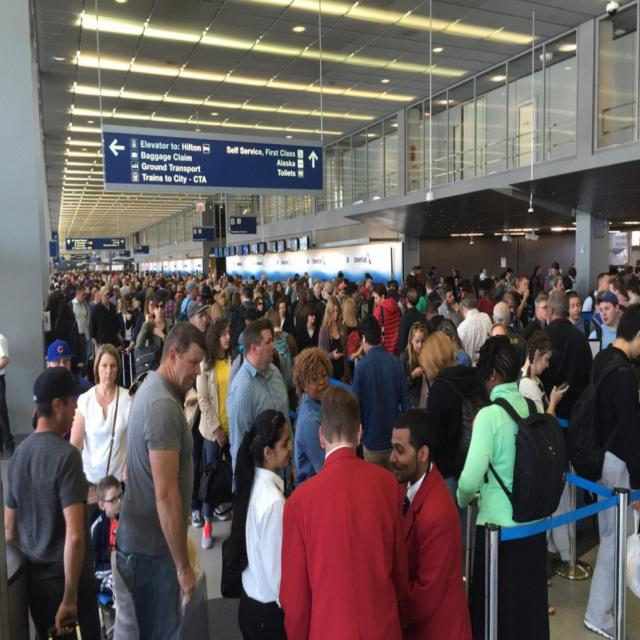body: (276, 379, 416, 639), (112, 318, 211, 639), (454, 331, 550, 640), (562, 300, 640, 640), (1, 363, 92, 639), (388, 406, 474, 639), (68, 341, 133, 640), (417, 329, 481, 579), (228, 408, 294, 639), (226, 316, 294, 501), (195, 317, 241, 551), (184, 299, 230, 528), (352, 311, 412, 475), (540, 289, 595, 420), (266, 268, 386, 326), (32, 339, 94, 447), (385, 262, 522, 309), (291, 344, 334, 492), (177, 268, 266, 326), (516, 328, 572, 420), (224, 326, 294, 396), (88, 473, 125, 599), (268, 309, 300, 414), (317, 293, 353, 386), (455, 290, 495, 370), (45, 262, 121, 304), (398, 319, 432, 411), (488, 300, 527, 370), (135, 295, 174, 362), (88, 285, 123, 357), (372, 280, 404, 358), (0, 331, 18, 462), (120, 263, 176, 304), (587, 290, 622, 350), (398, 286, 428, 355), (529, 262, 578, 304), (608, 258, 640, 322), (123, 294, 155, 357), (116, 296, 137, 390), (68, 285, 88, 379), (436, 317, 472, 368), (340, 296, 364, 362), (519, 293, 551, 340), (54, 298, 80, 355), (566, 290, 596, 339), (580, 272, 612, 314), (296, 302, 321, 354), (511, 275, 531, 330), (176, 280, 202, 322), (437, 284, 460, 330), (501, 292, 524, 336), (41, 304, 63, 348), (424, 300, 446, 337), (485, 318, 511, 342), (592, 288, 608, 320)
